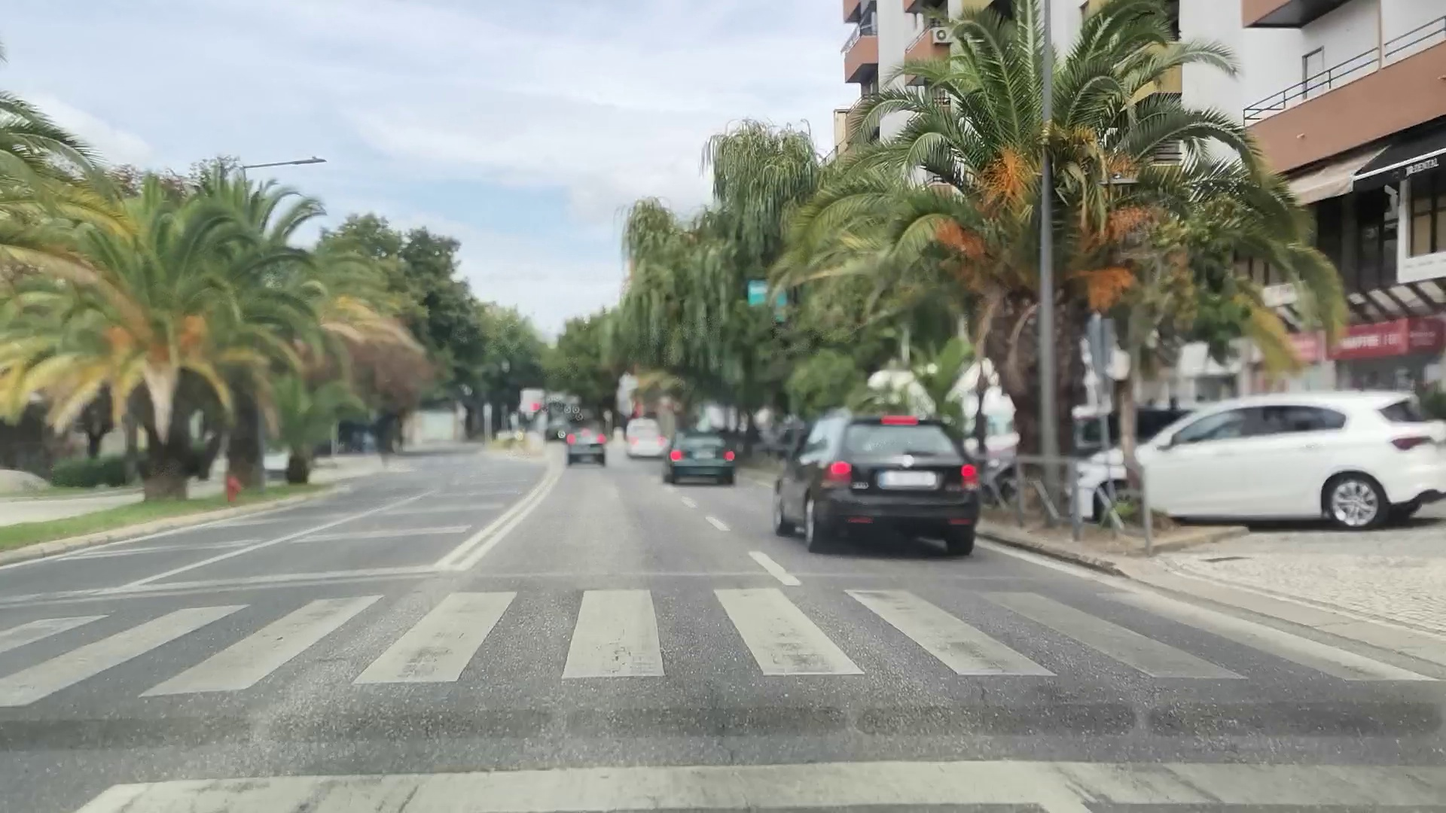Stairs: (1, 580, 1435, 708)
